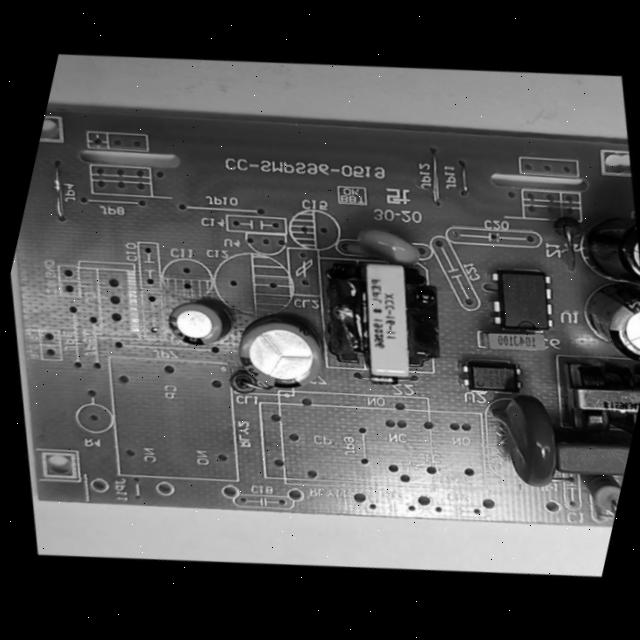Cap1: (213, 298, 350, 414)
Cap2: (152, 288, 244, 365)
Cap3: (555, 274, 640, 379)
Cap4: (555, 193, 640, 302)
MOSFET: (470, 251, 574, 348)
Mov: (466, 381, 585, 506)
Resistor: (569, 466, 625, 532)
Transformer: (287, 232, 481, 409), (542, 341, 640, 448)
